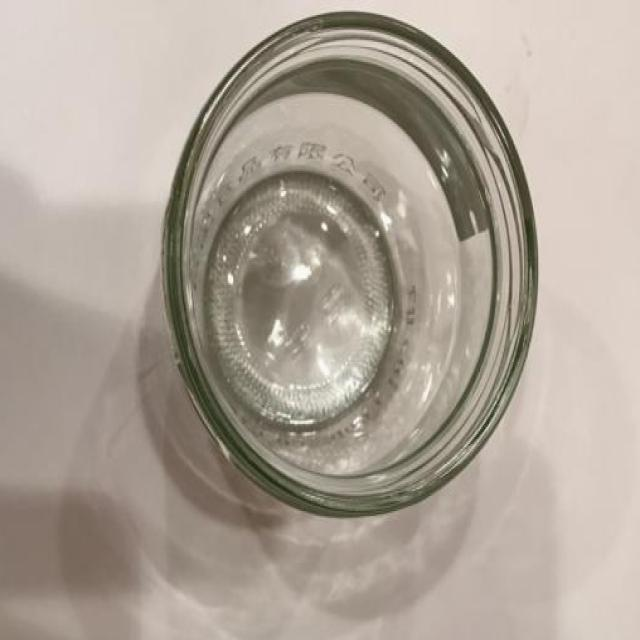chai_thuy_tinh: (163, 12, 538, 517)
